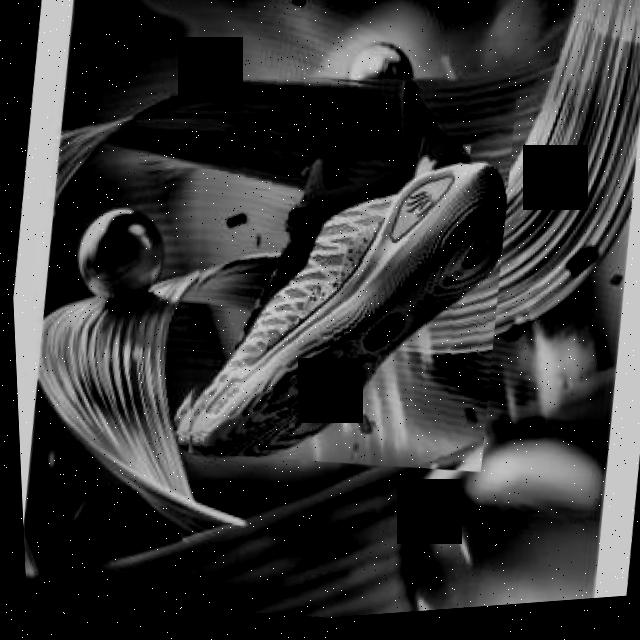shoe: (156, 53, 529, 497)
